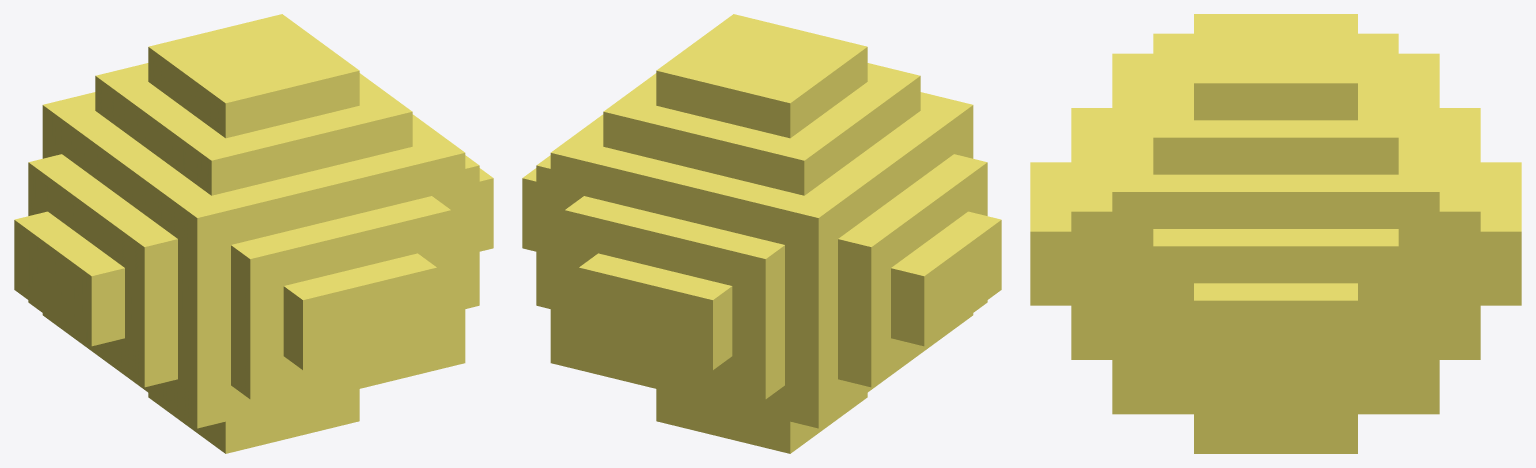
File: Egg.gltf
The picture shows the model from 3 angles, left to right: view 1: azimuth 30°, elevation 25°; view 2: azimuth 150°, elevation 25°; view 3: azimuth 270°, elevation 25°; orthographic projection. The views are drawn at different scales.
Parts seen in each view (by area): view 1: Egg-Mesh; view 2: Egg-Mesh; view 3: Egg-Mesh.
Part boxes in pixels (left/top/right/bottom): Egg-Mesh: left=14, top=14, right=493, bottom=453; Egg-Mesh: left=522, top=14, right=1001, bottom=453; Egg-Mesh: left=1030, top=14, right=1521, bottom=453.
Bounding box in the file's own units: 12 × 10 × 12.
1 material, 1 textured.
